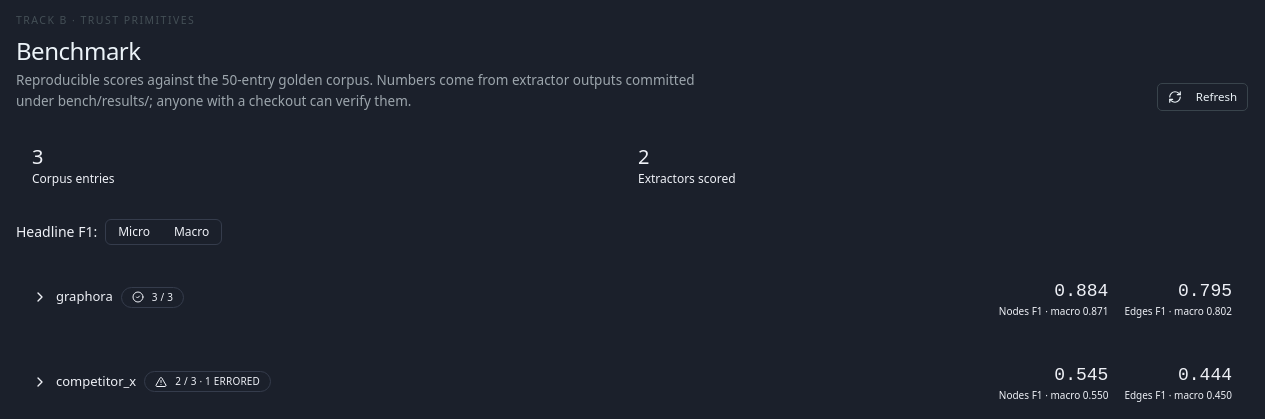
Scenario: BenchPage › toggles headline between micro and macro
Expected: the text "0.884" is shown, [1054,277,1108,305]
Click the button "Macro" at (192, 232), box [162,220,221,244]
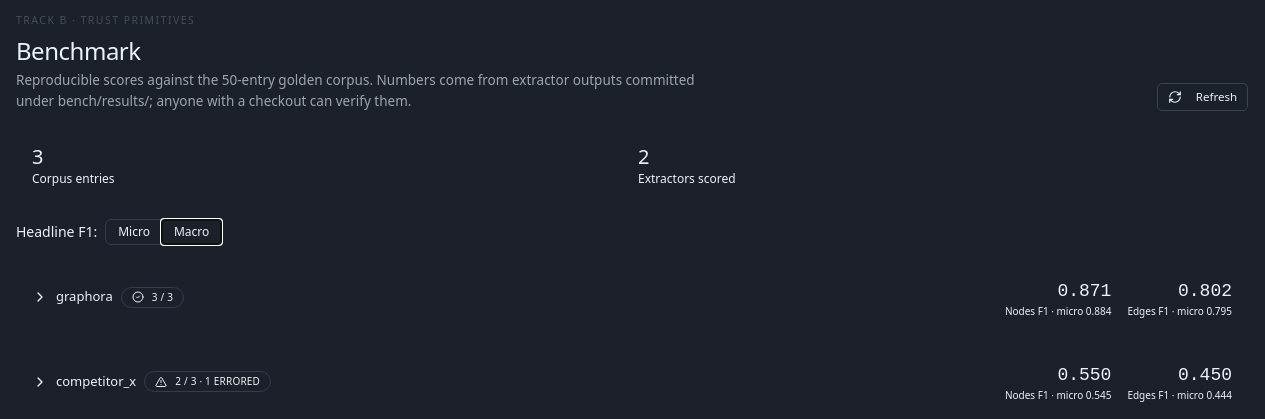
Expected: the text "0.871" is shown, [1057,277,1111,305]
